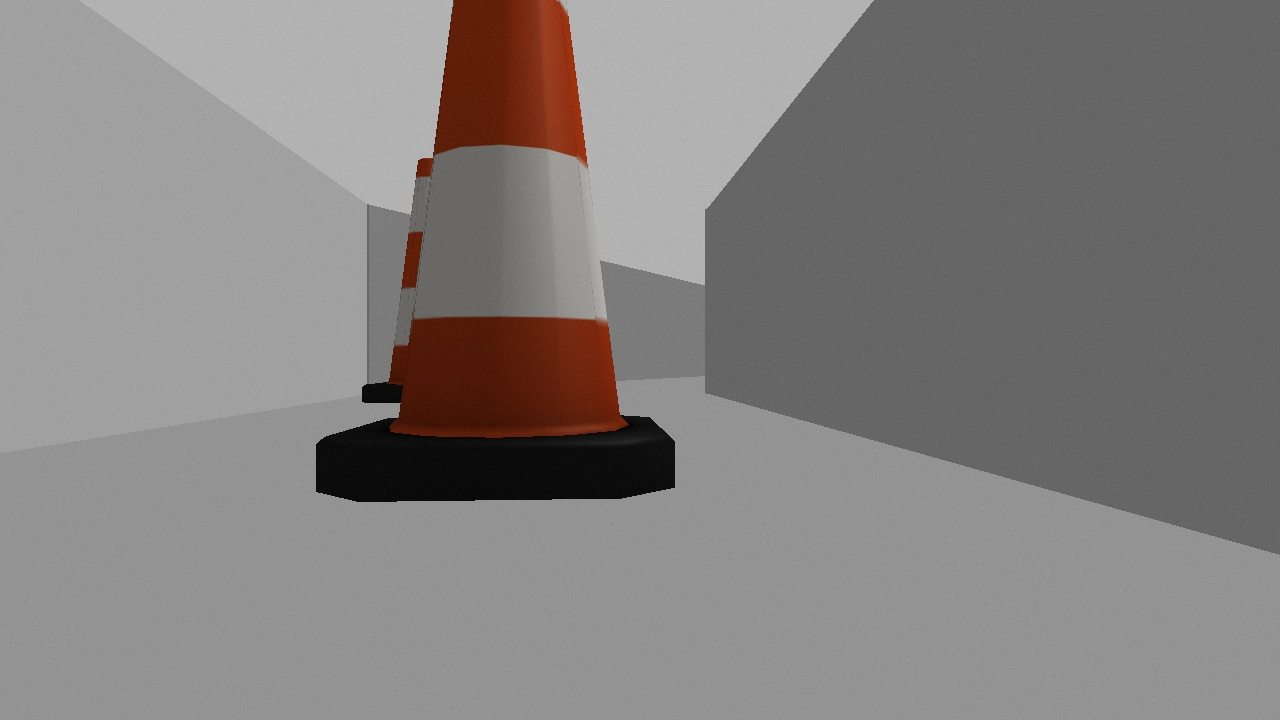barricade: (313, 5, 675, 502), (360, 146, 495, 404)
